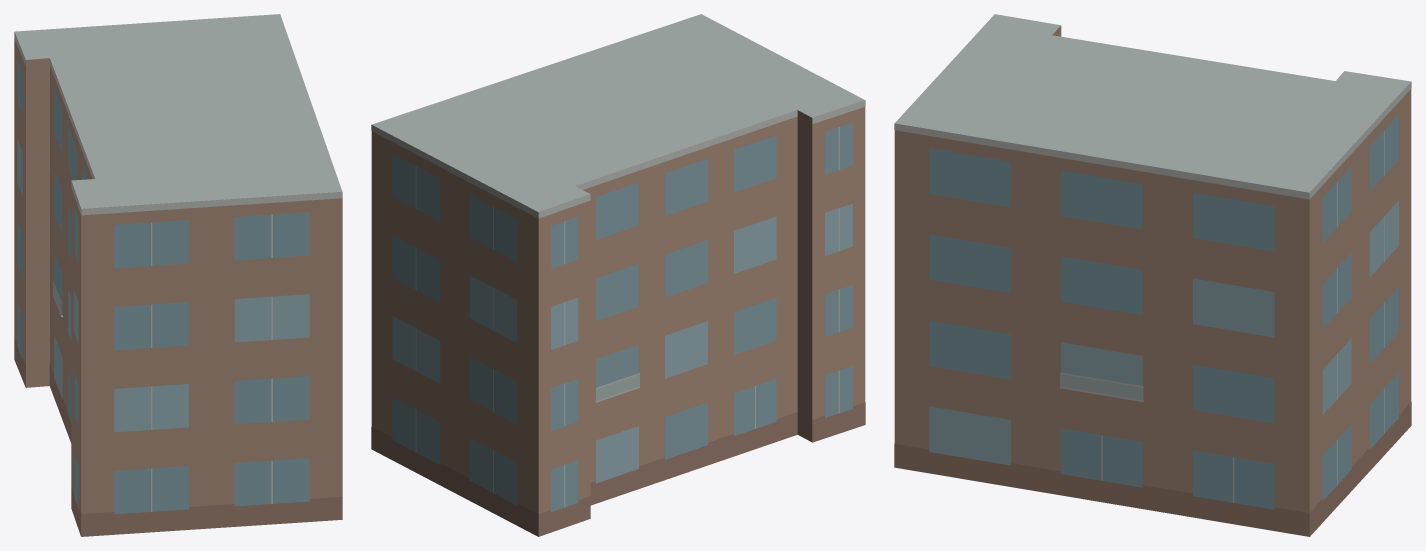
File: survey-upis-32803689.glb
3 renders of one model, left to right at view 1: azimuth 30°, elevation 25°; view 2: azimuth 150°, elevation 25°; view 3: azimuth 270°, elevation 25°, orthographic. The views are drawn at different scales.
Parts seen in each view (by area): view 1: survey-upis-32803689.tmp; view 2: survey-upis-32803689.tmp; view 3: survey-upis-32803689.tmp.
Part boxes in pixels (box(x1,y1,x2,y2)): survey-upis-32803689.tmp: box(14, 14, 342, 536); survey-upis-32803689.tmp: box(371, 14, 865, 536); survey-upis-32803689.tmp: box(894, 14, 1411, 536).
Bounding box in the file's own units: 13.82 × 12.4 × 16.89.
